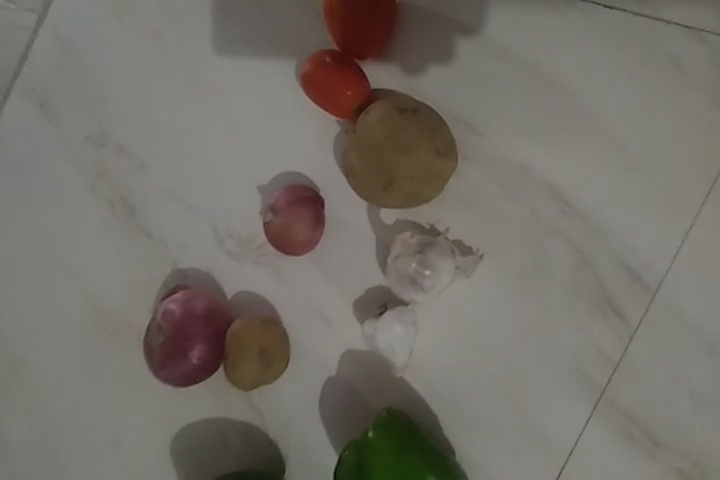capsicum: (334, 403, 474, 480)
garlic: (386, 228, 464, 307), (375, 304, 423, 372)
onion: (149, 287, 226, 387), (263, 184, 326, 257)
potato: (353, 96, 457, 206), (223, 311, 294, 389)
tomato: (294, 45, 373, 118), (316, 1, 391, 57)
